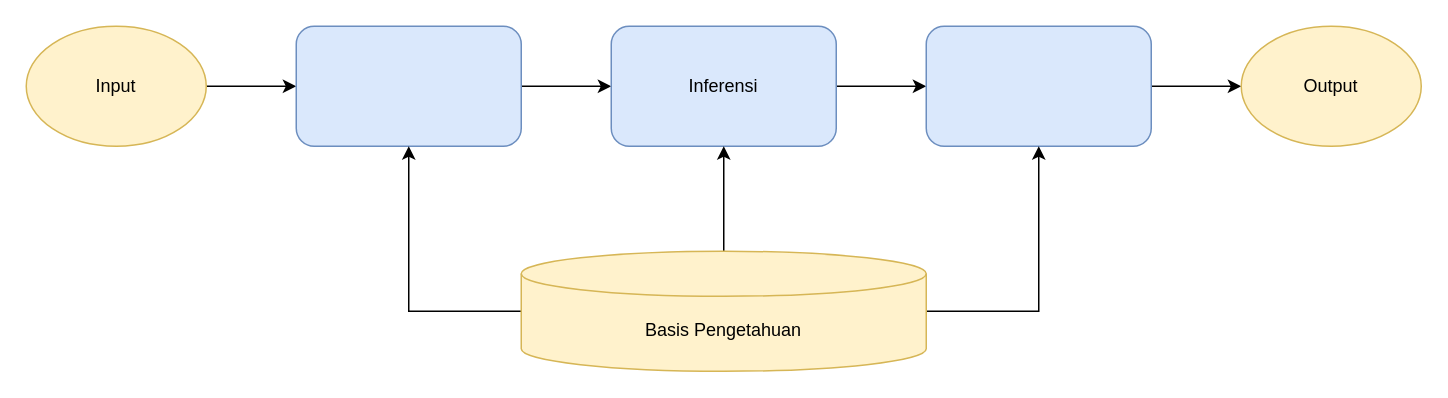
The diagram is 1448 pixels wide and 398 high, and some of its shapes have lost their labels. The box of each missing label's shape, as (x1, y1, x2, y2) in pixels:
Defuzifikasi: (925, 25, 1151, 146)
Fuzzifikasi: (295, 25, 521, 146)
